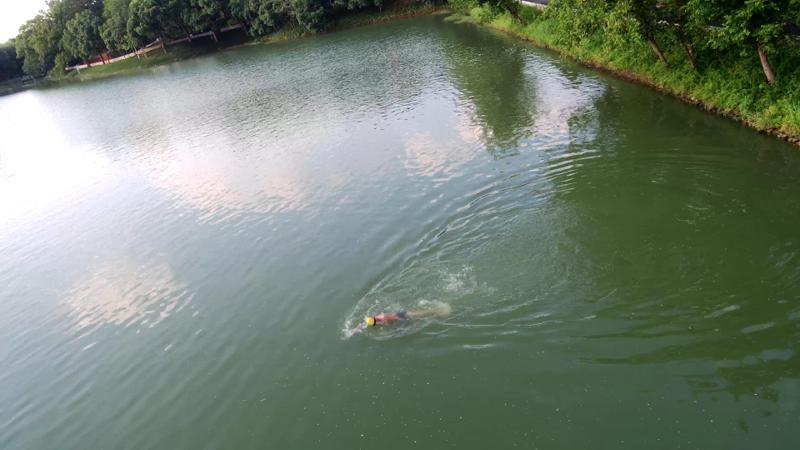swimmers: (349, 306, 442, 335)
